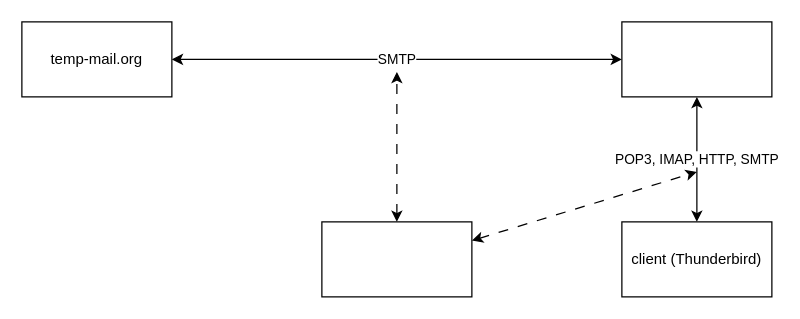
Image size: 800x319. Some labels were removed from this diagram. The shapes that lost their labels are listed below. From the top down, each one's centre as x and y in pixels, then its label:
At [696,59]: "email.netsec-docker.isi.jhu.edu".
At [396,259]: "attack.netsec-docker.isi.jhu.edu".
